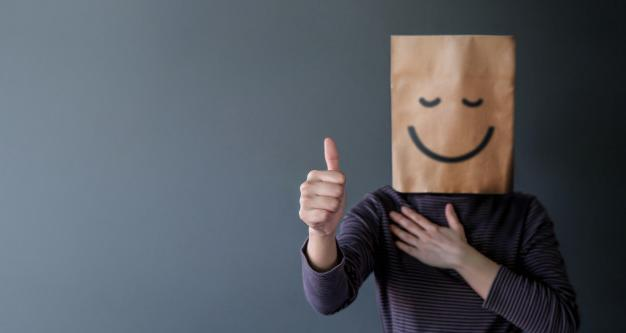thumbsup: (298, 137, 347, 225)
